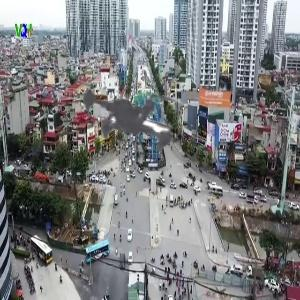drone: (31, 29, 226, 224)
